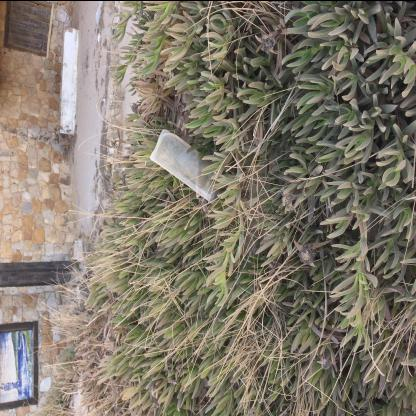plastik: (150, 128, 222, 204)
